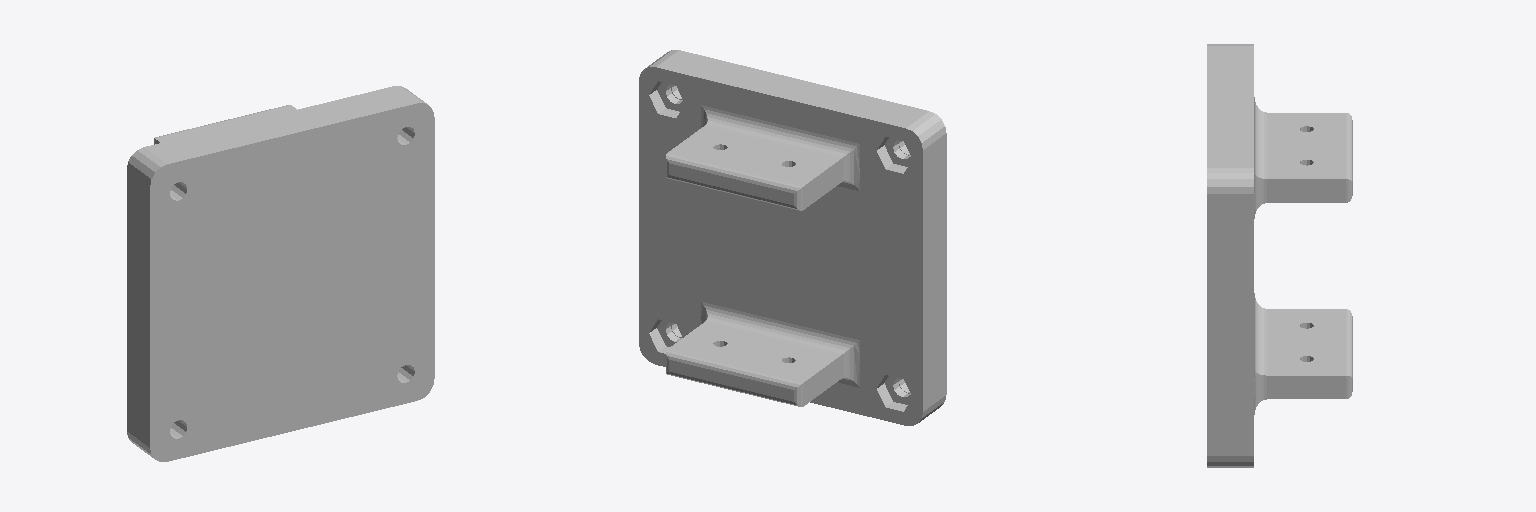
The model's file is ar_tag.obj.
The picture shows the model from 3 angles: view 1: azimuth 30°, elevation 25°; view 2: azimuth 150°, elevation 25°; view 3: azimuth 270°, elevation 25°; orthographic projection.
Size of the model in its own units: 0.05 by 0.05 by 0.0222.